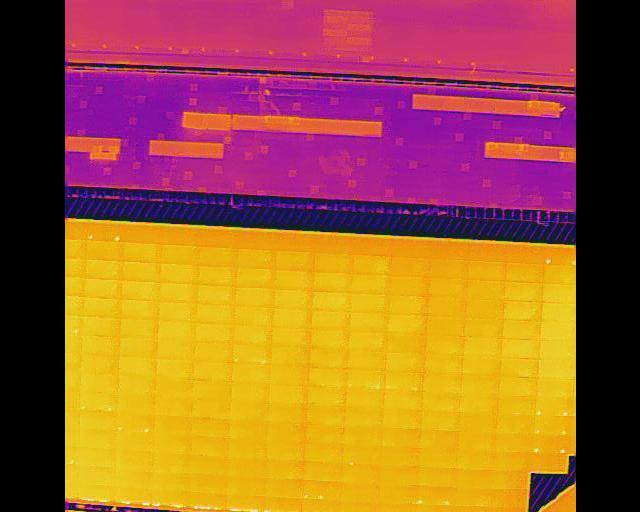Cell: (544, 246, 575, 264)
Cell-Multi: (416, 486, 457, 505), (117, 412, 152, 434), (532, 416, 568, 437), (87, 224, 126, 243), (302, 481, 340, 500), (79, 392, 117, 411), (189, 492, 227, 510), (531, 435, 566, 454), (534, 397, 568, 415), (265, 497, 302, 512), (302, 499, 340, 512)
No-Anomaly: (460, 372, 498, 395), (416, 467, 456, 488), (273, 250, 313, 271), (309, 310, 349, 331), (312, 272, 352, 293), (422, 372, 460, 394), (425, 335, 463, 357), (502, 300, 540, 322), (505, 262, 543, 284), (232, 343, 271, 364), (268, 385, 307, 406), (346, 370, 385, 391), (348, 332, 387, 353), (79, 354, 118, 375), (502, 319, 539, 341), (194, 323, 234, 343), (304, 424, 344, 444), (307, 367, 347, 387), (310, 292, 350, 312), (313, 253, 353, 273), (386, 314, 426, 334), (387, 295, 427, 315), (80, 317, 120, 337), (152, 434, 190, 455), (159, 263, 197, 284), (84, 259, 122, 280), (458, 412, 496, 433), (461, 356, 499, 377), (466, 279, 504, 300), (504, 281, 542, 302), (506, 244, 544, 265), (304, 443, 342, 464), (151, 416, 190, 436), (195, 303, 234, 323), (197, 247, 236, 267), (226, 476, 265, 496), (421, 392, 460, 412), (428, 259, 467, 279), (273, 270, 312, 290), (274, 233, 313, 253), (303, 462, 342, 482), (306, 387, 345, 407), (308, 349, 347, 369), (342, 427, 381, 447), (345, 390, 384, 410), (352, 237, 391, 257), (379, 446, 418, 466), (386, 333, 425, 353), (427, 278, 464, 299), (501, 339, 538, 360), (349, 313, 386, 334), (350, 293, 387, 314), (351, 273, 388, 294), (352, 255, 389, 276), (118, 357, 155, 378), (120, 319, 157, 340), (150, 454, 190, 473), (155, 359, 193, 379), (155, 339, 193, 359), (192, 379, 230, 399), (198, 228, 236, 248), (230, 383, 268, 403), (264, 478, 302, 498), (266, 422, 304, 442), (419, 430, 457, 450), (420, 411, 458, 431), (424, 355, 462, 375), (426, 317, 464, 337), (457, 431, 495, 451), (464, 318, 502, 338), (464, 299, 502, 319), (499, 358, 537, 378), (272, 308, 310, 328), (347, 351, 385, 371), (378, 466, 416, 486), (384, 391, 422, 411), (385, 353, 423, 373), (390, 257, 428, 277), (119, 300, 157, 320), (120, 281, 158, 301), (468, 261, 504, 282), (123, 262, 159, 283), (189, 436, 228, 455), (190, 399, 229, 418), (193, 342, 232, 361), (226, 457, 265, 476), (234, 307, 273, 326), (234, 288, 273, 307), (271, 327, 310, 346), (340, 483, 379, 502), (382, 410, 421, 429), (389, 277, 428, 296), (154, 378, 191, 398), (158, 301, 195, 321), (161, 245, 198, 265), (229, 421, 266, 441), (231, 364, 268, 384), (235, 268, 272, 288), (83, 298, 120, 318), (427, 297, 464, 317), (86, 241, 123, 261), (457, 450, 494, 470), (271, 346, 308, 366), (115, 469, 152, 489), (117, 377, 154, 397), (464, 337, 499, 358), (156, 321, 194, 340), (159, 283, 197, 302), (191, 417, 229, 436), (193, 361, 231, 380), (196, 285, 234, 304), (197, 267, 235, 286), (228, 440, 266, 459), (229, 402, 267, 421), (235, 250, 273, 269), (266, 460, 304, 479), (266, 441, 304, 460), (418, 449, 456, 468), (269, 366, 307, 385), (310, 330, 348, 349), (341, 446, 379, 465), (341, 465, 379, 484), (344, 408, 382, 427), (77, 448, 115, 467), (381, 429, 419, 448), (384, 372, 422, 391), (116, 395, 154, 414), (190, 473, 226, 493), (428, 241, 468, 259), (460, 393, 496, 413), (305, 407, 345, 425), (78, 337, 118, 355), (124, 243, 160, 263), (190, 455, 227, 474), (84, 279, 121, 298), (468, 244, 505, 263), (494, 433, 531, 452), (497, 396, 534, 415), (498, 377, 535, 396), (528, 453, 565, 472), (77, 429, 114, 448), (78, 411, 115, 430), (378, 485, 415, 504), (391, 239, 428, 258), (119, 338, 156, 357), (313, 236, 352, 254), (457, 469, 492, 489), (493, 452, 528, 472), (115, 432, 150, 452), (152, 473, 190, 491), (161, 227, 197, 246), (236, 231, 274, 249), (496, 415, 532, 434), (273, 289, 311, 307), (76, 467, 114, 485), (125, 226, 161, 245), (153, 397, 190, 415), (234, 326, 271, 344), (268, 404, 305, 422), (80, 374, 117, 392), (491, 471, 526, 490), (116, 451, 151, 470), (490, 489, 525, 507), (536, 378, 569, 397), (457, 489, 491, 507), (542, 283, 572, 303), (538, 340, 569, 359), (539, 321, 570, 340), (540, 302, 571, 321), (538, 359, 568, 378), (543, 265, 573, 284), (378, 503, 415, 512)
Unclassified: (115, 486, 152, 505), (152, 489, 190, 507), (77, 485, 115, 502), (226, 495, 264, 511), (340, 501, 379, 512), (415, 505, 457, 512), (456, 505, 489, 512), (490, 507, 526, 512)
